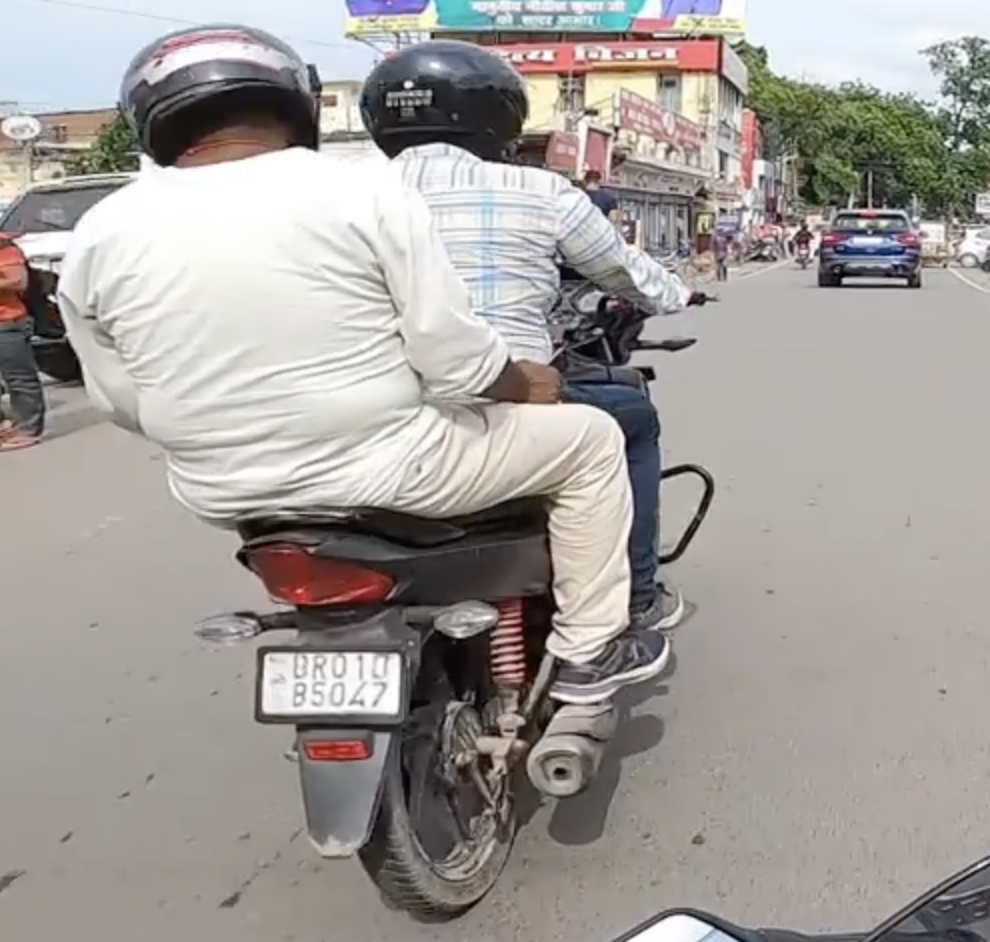motor: (102, 259, 716, 909)
number: (254, 644, 410, 726)
with helmet: (111, 29, 320, 159), (357, 37, 526, 159)
